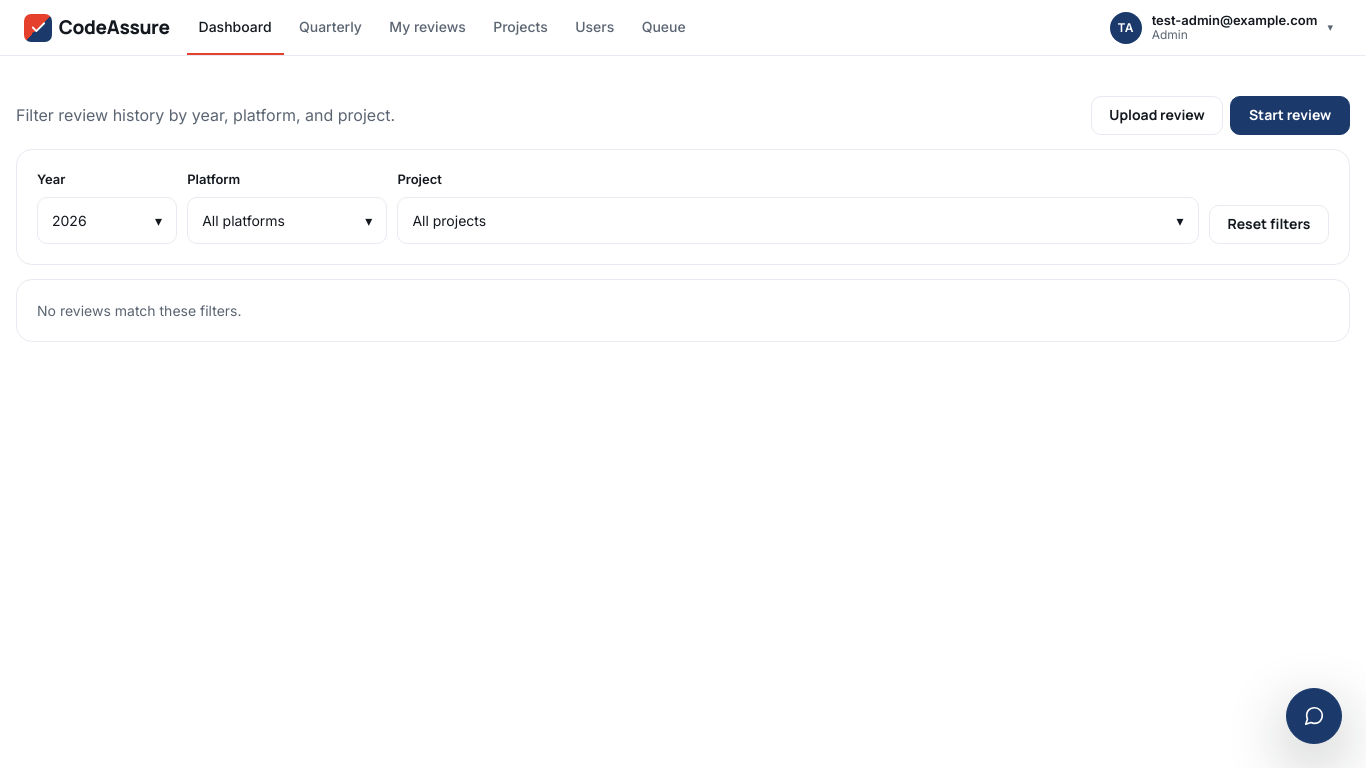
it: renaming a project updates it in the Project dropdown
Click the button "All projects ▾" at (449, 221), box [397,197,1199,244]
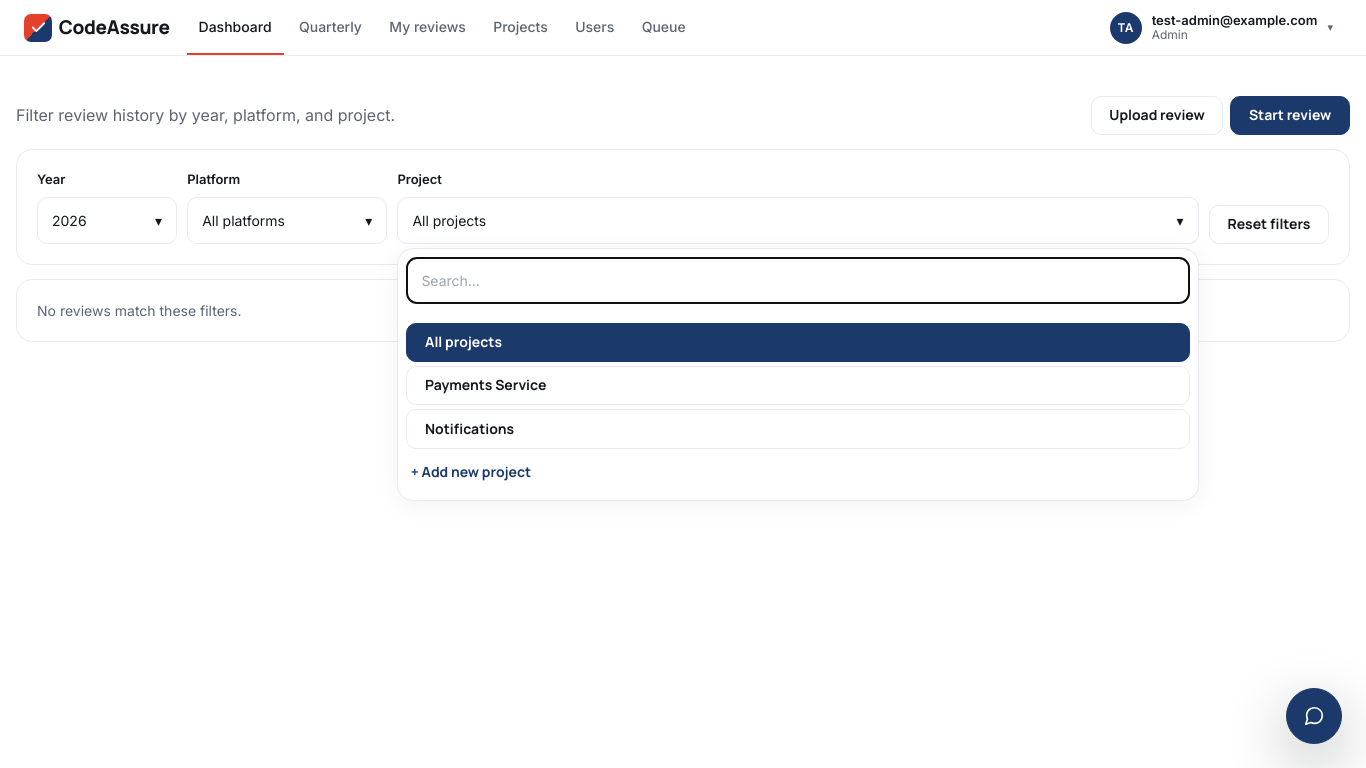
Click the button "Payments Service" at (486, 385), box [406,366,1190,405]
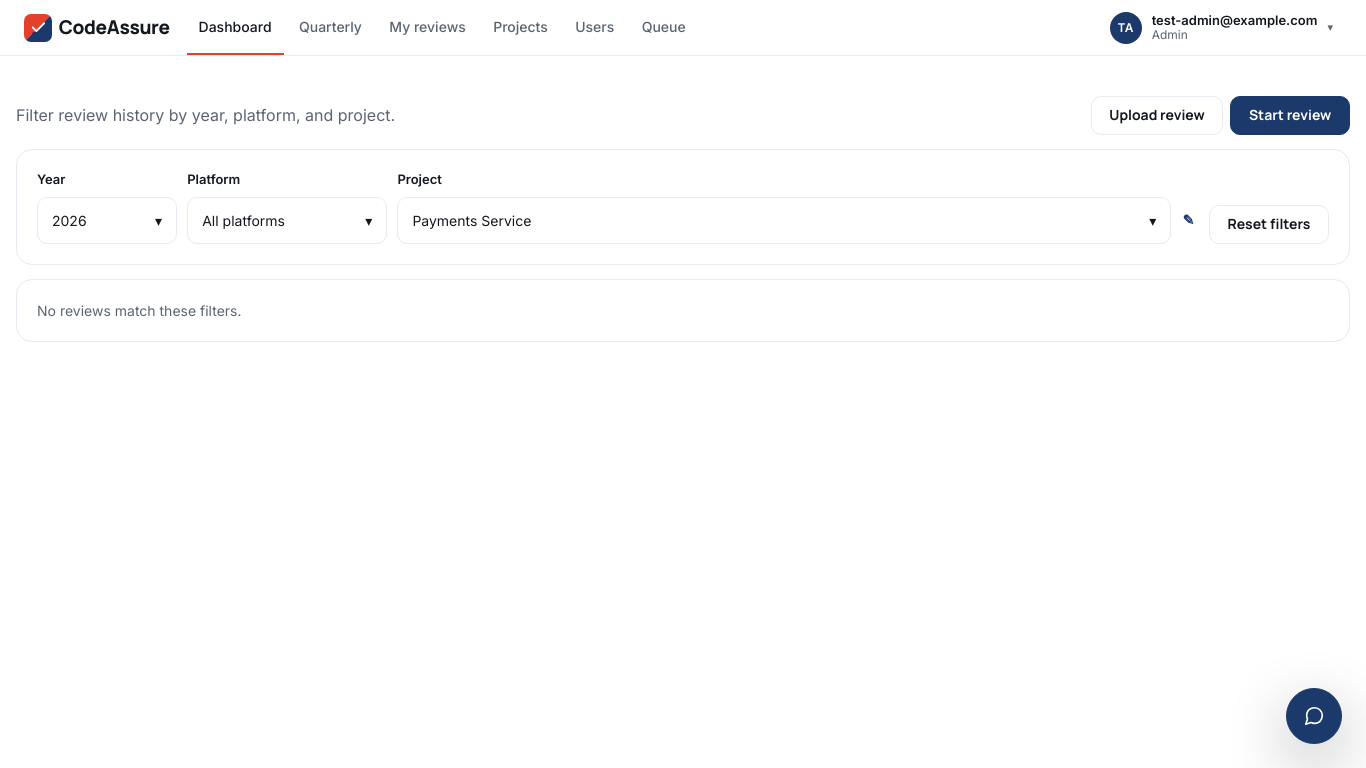
Click the button named "rename payments service" at (1188, 221), box [1178,197,1199,244]
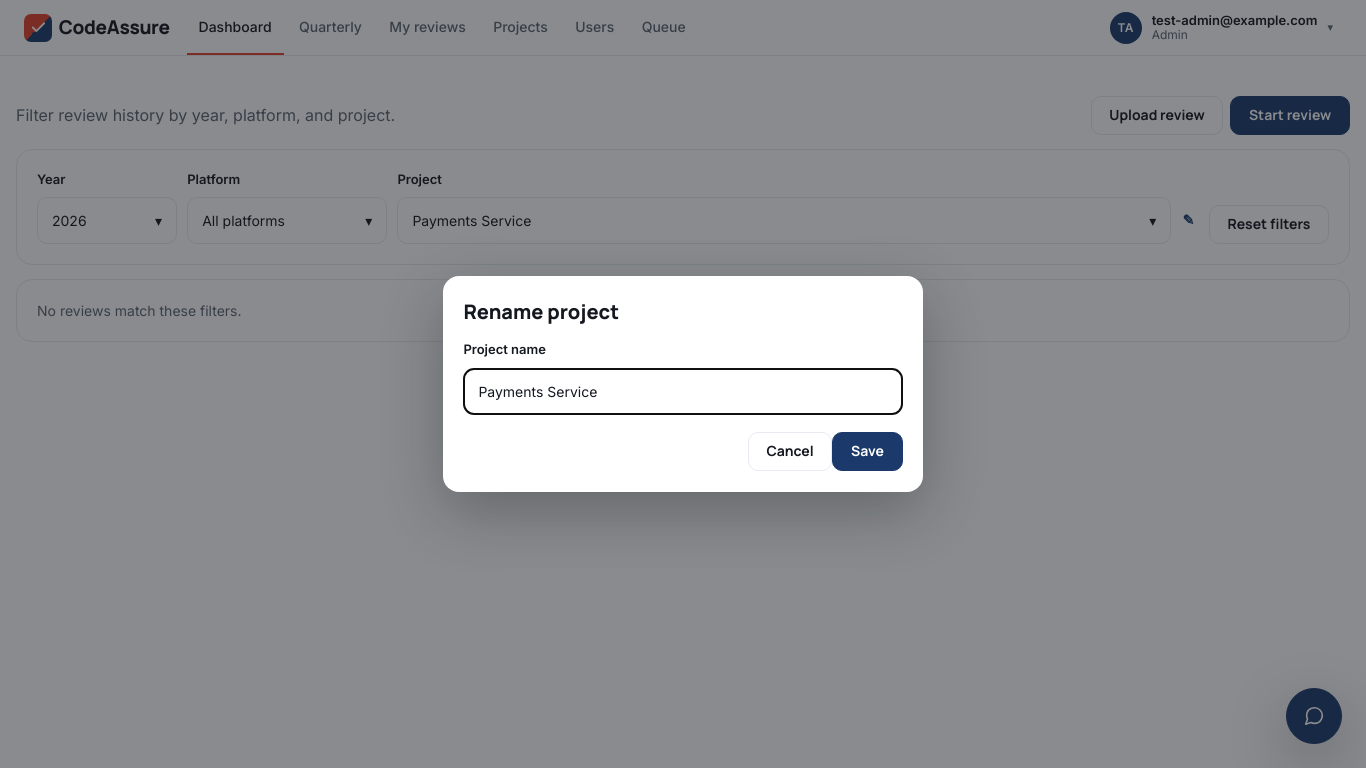
Replace the text in the field labelled "Project name" with "Payments Team" at (683, 392), box [463,368,903,415]
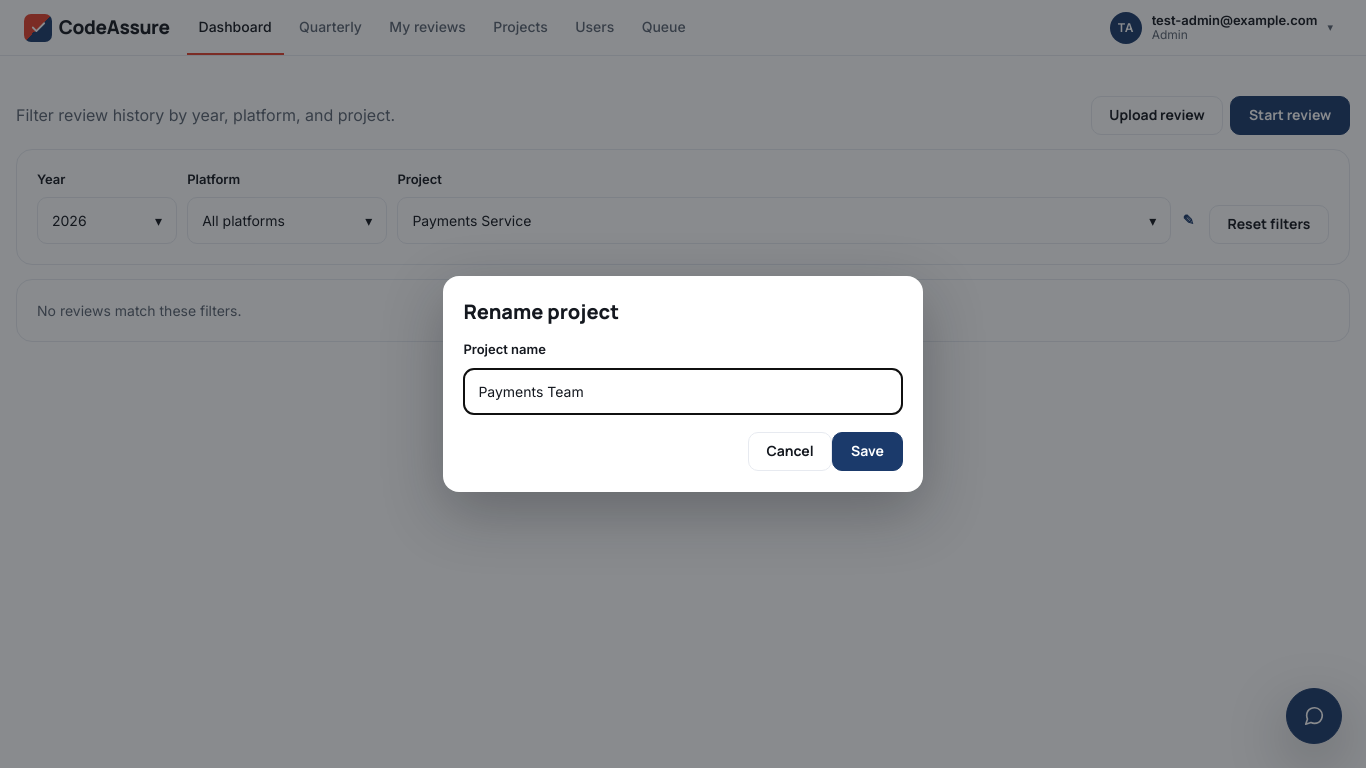
Click the button "Save" at (868, 452), box [832,432,903,471]
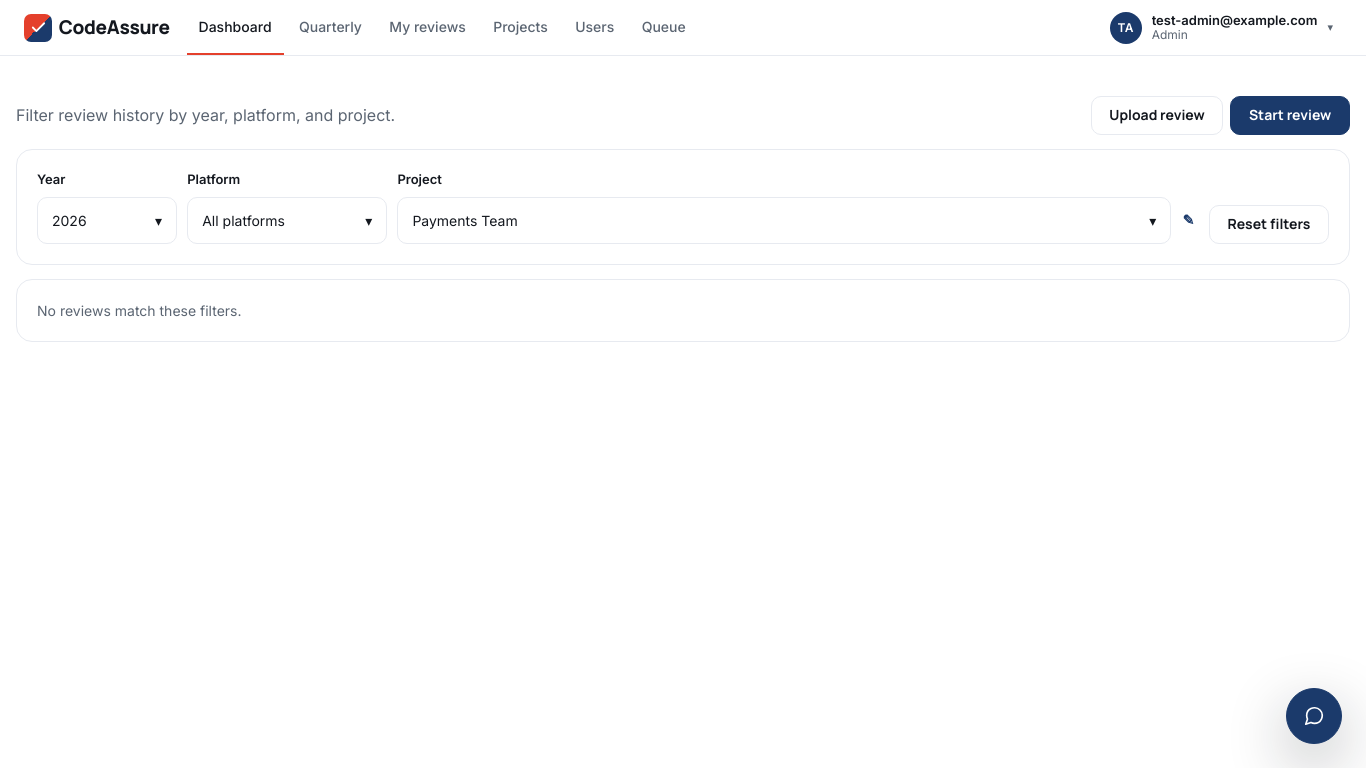
Check: the button with aria-label "Project" shows "Payments Team", box [397,197,1171,244]
